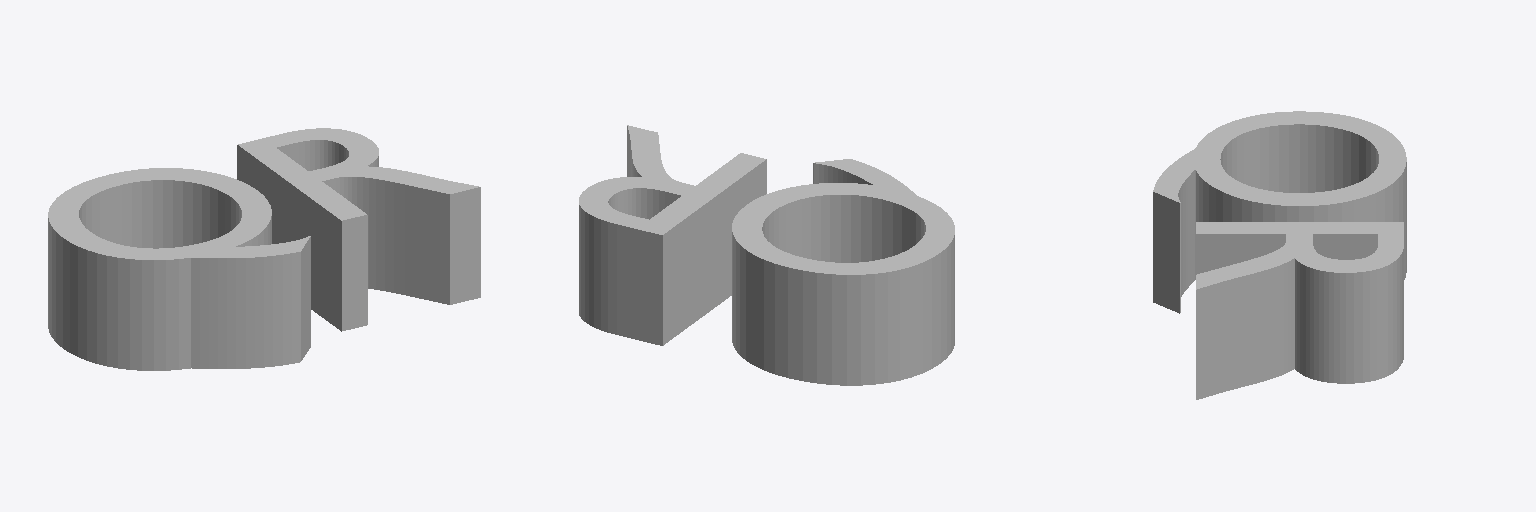
Rendered from title.obj.
3 renders of one model, left to right at view 1: azimuth 30°, elevation 25°; view 2: azimuth 150°, elevation 25°; view 3: azimuth 270°, elevation 25°, orthographic.
Parts seen in each view (by area): view 1: QR; view 2: QR; view 3: QR.
Part boxes in pixels (x1,y1,x2,y2): QR: (48,128,480,370); QR: (579,125,954,385); QR: (1153,111,1406,399).
Size of the model in its own units: 1.38 by 0.4 by 0.83.